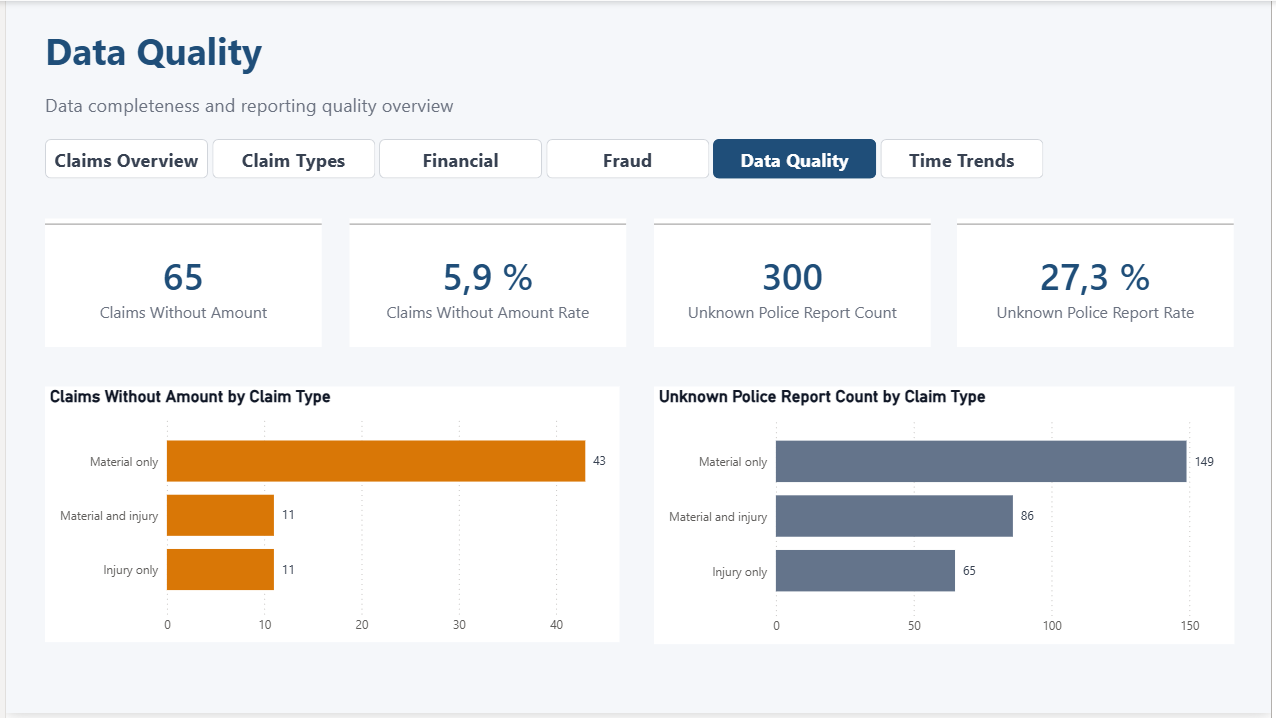

The page's visual inventory and layout, read from the dashboard file:
{"tool":"powerbi","page":{"name":"Data Quality","canvas":[1280,720],"ordinal":4},"visuals":[{"type":"textbox","box":[40,25,800,70],"z":0},{"type":"textbox","box":[40,92,600,26],"z":1000},{"type":"pageNavigator","box":[40,140,1010,40],"z":2000},{"type":"cardVisual","fields":{"Data":["_measures.Claims Without Amount"]},"box":[40,220,280.1,130.2],"z":3000},{"type":"cardVisual","fields":{"Data":["_measures.Claims Without Amount Rate"]},"box":[347.7,219.6,280.1,130.2],"z":4000},{"type":"cardVisual","fields":{"Data":["_measures.Unknown Police Report Count"]},"box":[655.4,219.6,280.1,130.2],"z":5000},{"type":"cardVisual","fields":{"Data":["_measures.Unknown Police Report Rate"]},"box":[963,219.6,280.1,130.2],"z":6000},{"type":"clusteredBarChart","title":"Claims Without Amount by Claim Type","fields":{"Category":["claims_clean.claim_type"],"Y":["_measures.Claims Without Amount"]},"box":[39.4,390.7,581.5,258.9],"z":7000},{"type":"clusteredBarChart","title":"Unknown Police Report Count by Claim Type","fields":{"Category":["claims_clean.claim_type"],"Y":["_measures.Unknown Police Report Count"]},"box":[655.7,390.7,587.5,260.4],"z":8000}]}

Visuals, with their boxes in screenshot pixels (x1, y1, x2, y2), scaled from the page's 1280x720 canvas onto the 1276x718 screenshot:
textbox: box(40, 25, 837, 95)
textbox: box(40, 92, 638, 118)
pageNavigator: box(40, 140, 1047, 180)
cardVisual - _measures.Claims Without Amount: box(40, 219, 319, 349)
cardVisual - _measures.Claims Without Amount Rate: box(347, 219, 626, 349)
cardVisual - _measures.Unknown Police Report Count: box(653, 219, 933, 349)
cardVisual - _measures.Unknown Police Report Rate: box(960, 219, 1239, 349)
"Claims Without Amount by Claim Type" clusteredBarChart: box(39, 390, 619, 648)
"Unknown Police Report Count by Claim Type" clusteredBarChart: box(654, 390, 1239, 649)
